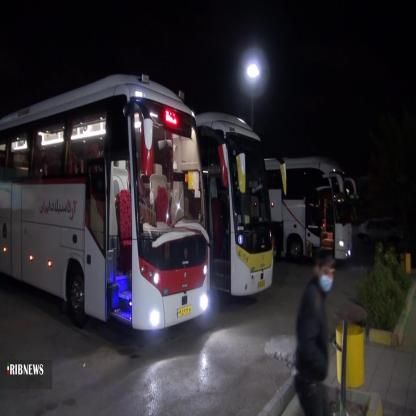Bus: (0, 81, 216, 350), (201, 105, 277, 301), (274, 163, 354, 263)
